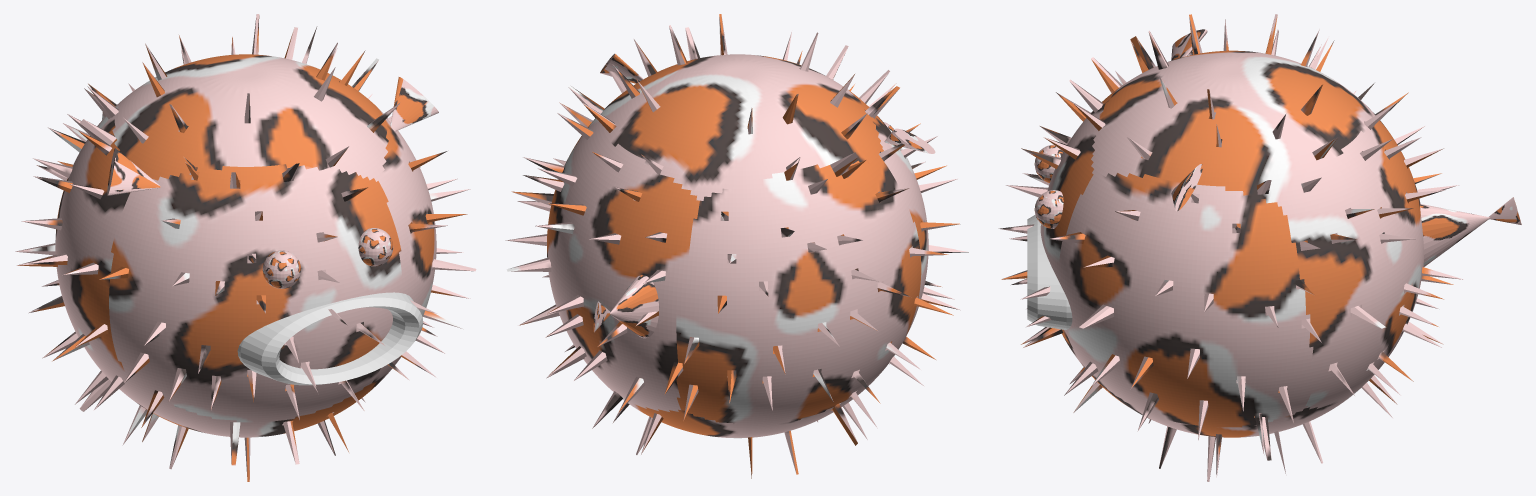
The model's file is pufferfish.fbx.
The picture shows the model from 3 angles, left to right: view 1: azimuth 30°, elevation 25°; view 2: azimuth 150°, elevation 25°; view 3: azimuth 270°, elevation 25°; orthographic projection.
Visible parts, largest first — view 1: Sphere, Torus, Cone.002, Cone.003, Sphere.001, Sphere.002; view 2: Sphere, Cone, Cone.003, Cone.002; view 3: Sphere, Torus, Cone, Sphere.002, Cone.002.
Boxes of the visible parts, <box> form: Sphere: <box>15,14,476,481</box>; Torus: <box>237,292,423,385</box>; Cone.002: <box>390,77,438,131</box>; Cone.003: <box>107,148,160,195</box>; Sphere.001: <box>262,250,301,288</box>; Sphere.002: <box>358,228,393,266</box>; Sphere: <box>505,14,968,478</box>; Cone: <box>610,275,658,338</box>; Cone.003: <box>884,128,935,153</box>; Cone.002: <box>600,53,643,83</box>; Sphere: <box>998,14,1463,481</box>; Torus: <box>1027,215,1072,329</box>; Cone: <box>1420,204,1489,267</box>; Sphere.002: <box>1034,190,1063,228</box>; Cone.002: <box>1171,164,1202,211</box>.
Size of the model in its own units: 237 by 222 by 269.
